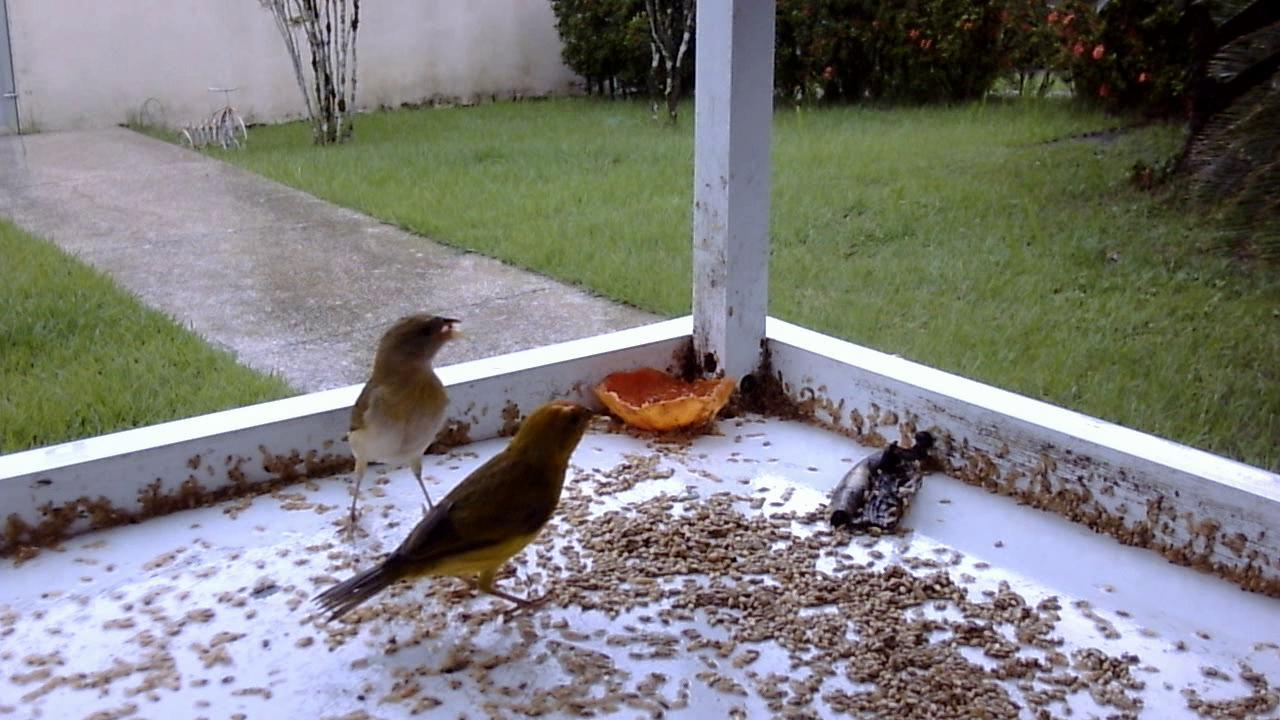canario_do_amazonas: (301, 395, 605, 636), (338, 305, 480, 527)
